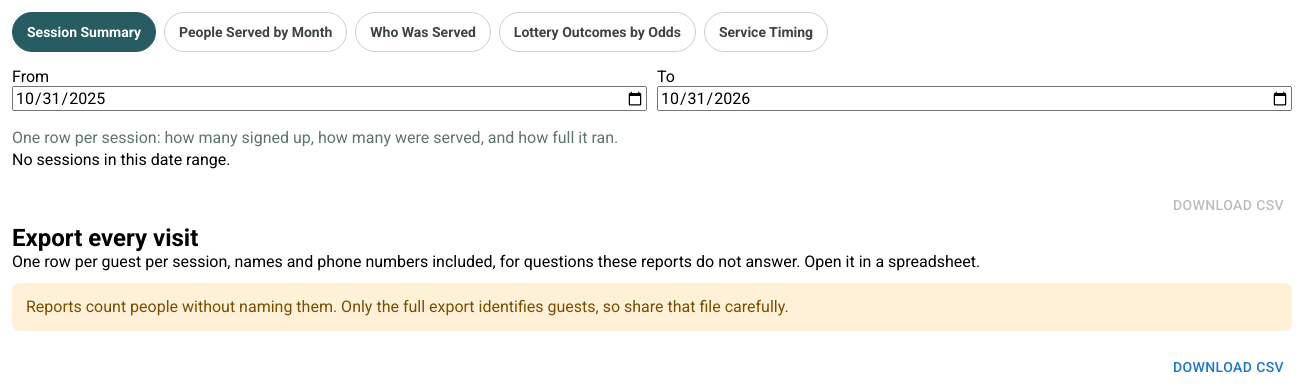
Test: ReportsView › refuses a backwards range without asking the server
Type "2020-01-01" into the date field labelled "To" at coordinates (974, 98), box [657,86,1292,111]
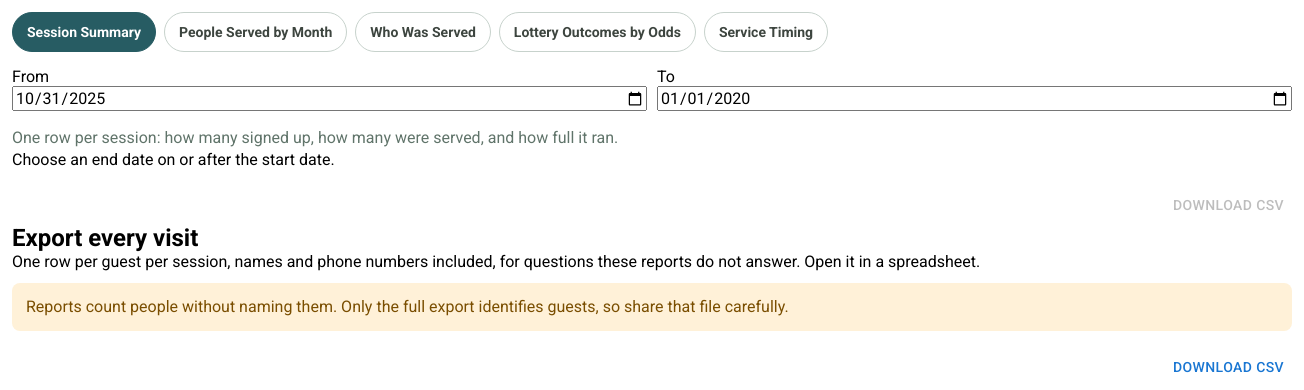
Expected: the text "Choose an end date on or after the start date." is shown, [12,150,335,169]
